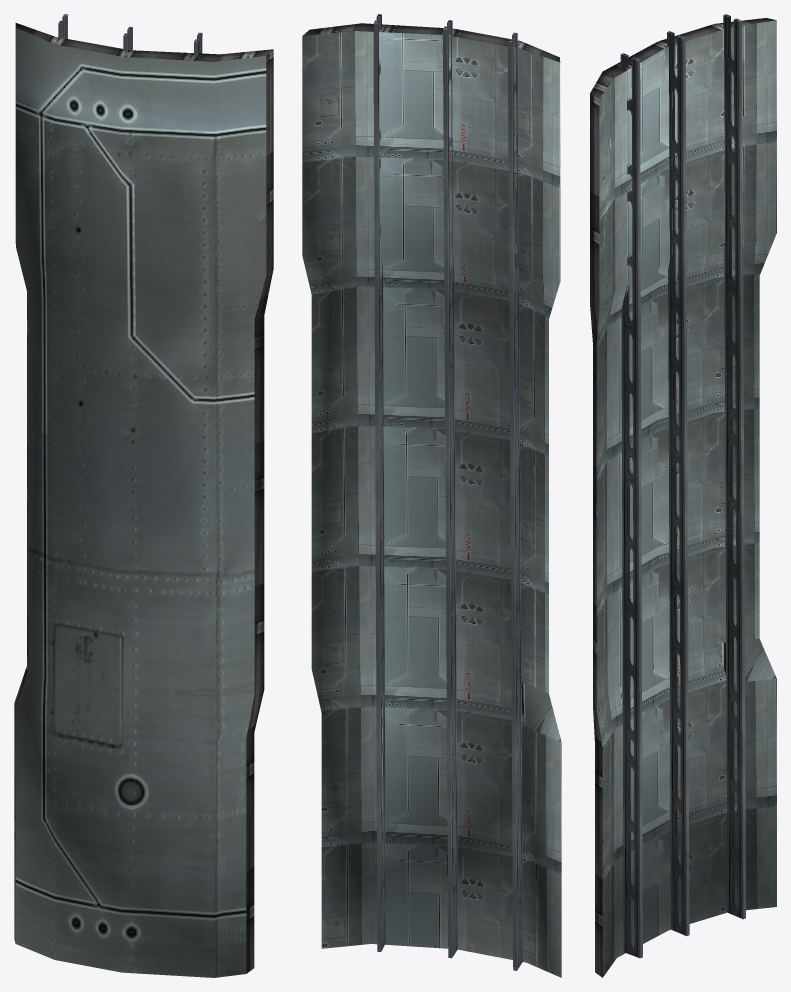
File: ContainerPanel1.fbx
3 views of the same model, side by side, from view 1: azimuth 30°, elevation 25°; view 2: azimuth 210°, elevation 25°; view 3: azimuth 270°, elevation 25° (orthographic). The views are drawn at different scales.
Parts seen in each view (by area): view 1: Panel_Container_Piece; view 2: Panel_Container_Piece; view 3: Panel_Container_Piece.
Part boxes in pixels (<box>): Panel_Container_Piece: <box>14,14,273,977</box>; Panel_Container_Piece: <box>302,14,561,977</box>; Panel_Container_Piece: <box>590,14,776,977</box>.
Bounding box in the file's own units: 180 × 932 × 175.
